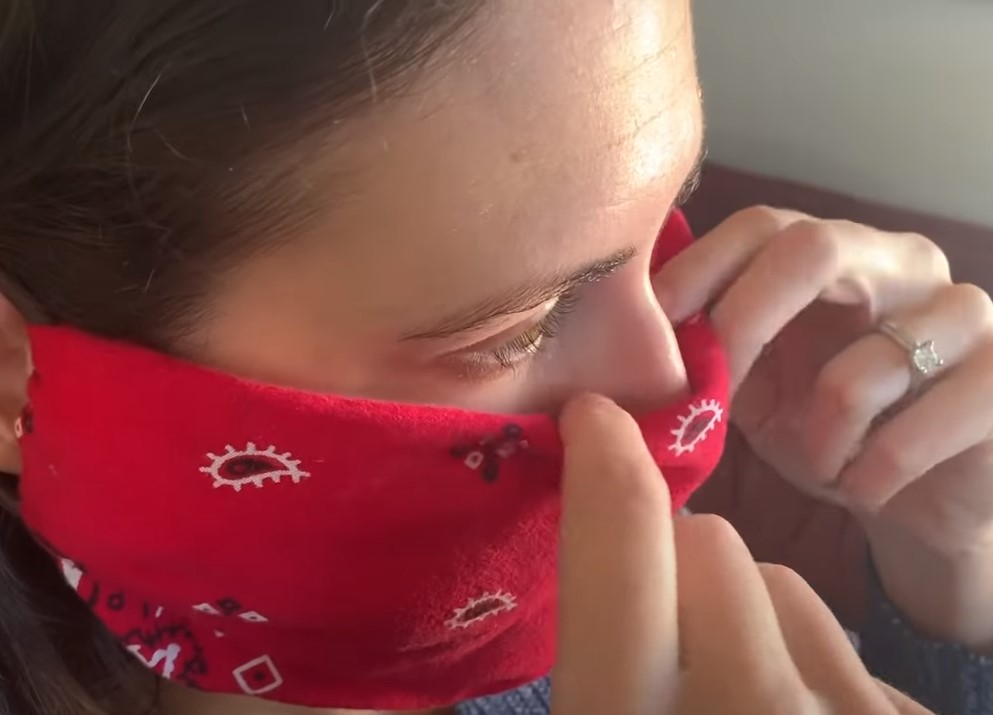face_with_mask: (6, 1, 745, 709)
